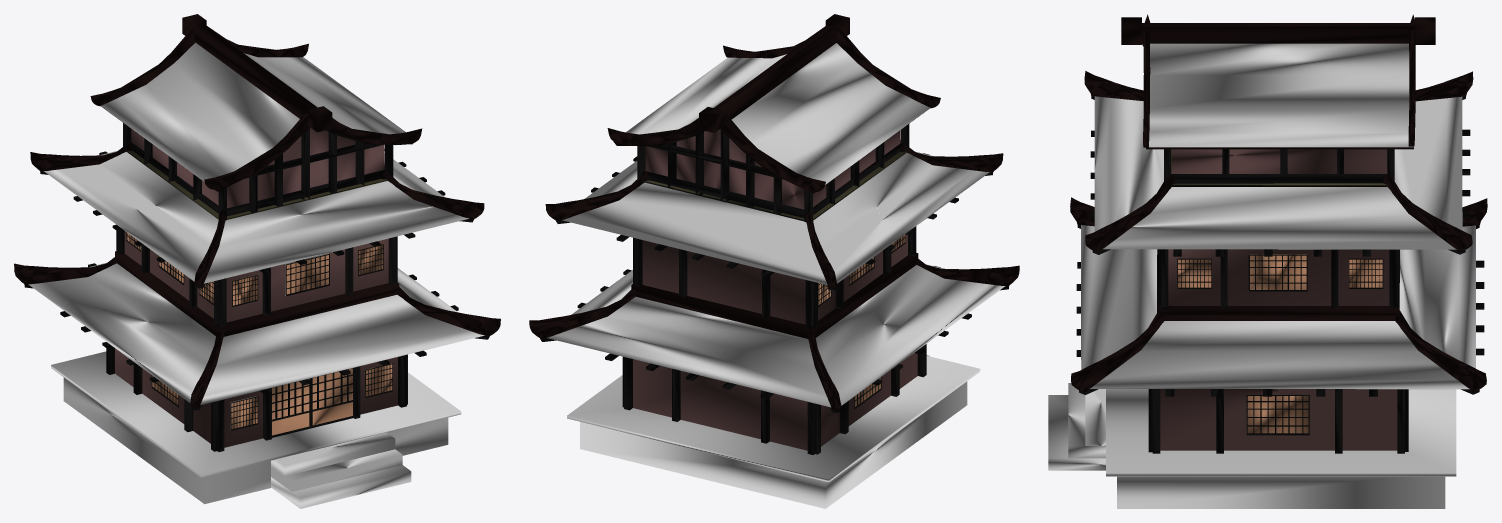
File: house_1.obj
3 views of the same model, side by side, from view 1: azimuth 30°, elevation 25°; view 2: azimuth 150°, elevation 25°; view 3: azimuth 270°, elevation 25° (orthographic). The views are drawn at different scales.
Visible parts, largest first — view 1: hideout1_official; view 2: hideout1_official; view 3: hideout1_official.
Boxes of the visible parts, bbox=[...] form: hideout1_official: bbox=[14, 14, 500, 508]; hideout1_official: bbox=[529, 14, 1019, 508]; hideout1_official: bbox=[1048, 14, 1487, 508].
Bounding box in the file's own units: 76.36 × 84.26 × 80.25.
